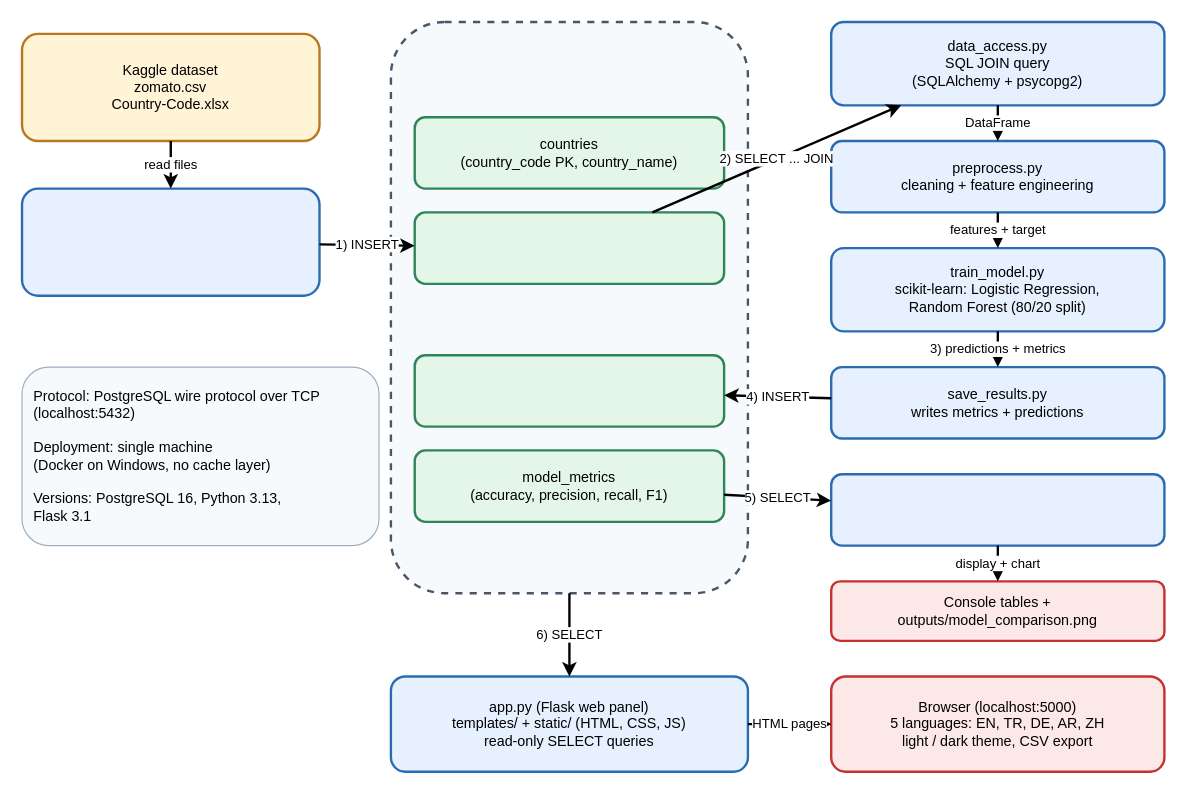
This 1185x793 diagram has some shape labels left out. Here are the shapes that lost their labels. From the top down, the box of each, then its label:
(20, 187, 320, 296): load_data.py pandas + SQLAlchemy (one-time import)
(413, 211, 725, 284): restaurants (21 columns, FK to countries)
(389, 20, 749, 594): Docker container PostgreSQL 16 - database restaurant_ml
(413, 353, 725, 427): predictions (restaurant, model, label, probability)
(829, 472, 1165, 546): show_results.py reads results back from the database
